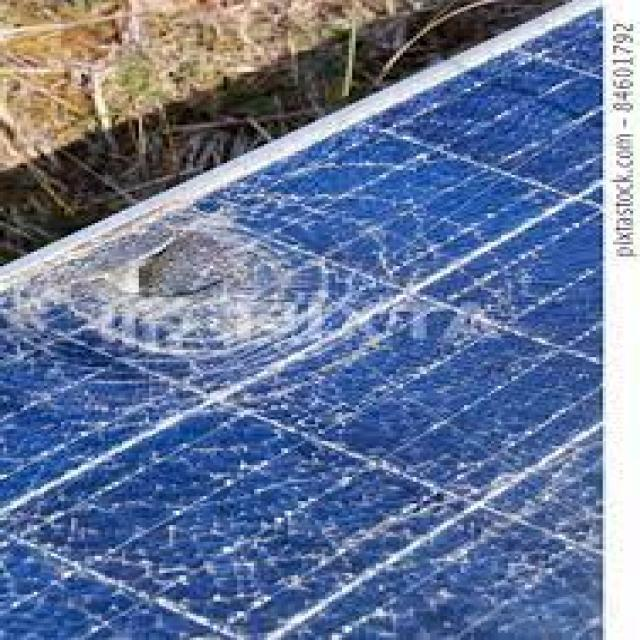faulty: (0, 0, 610, 640)
